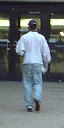person: (19, 22, 49, 110)
